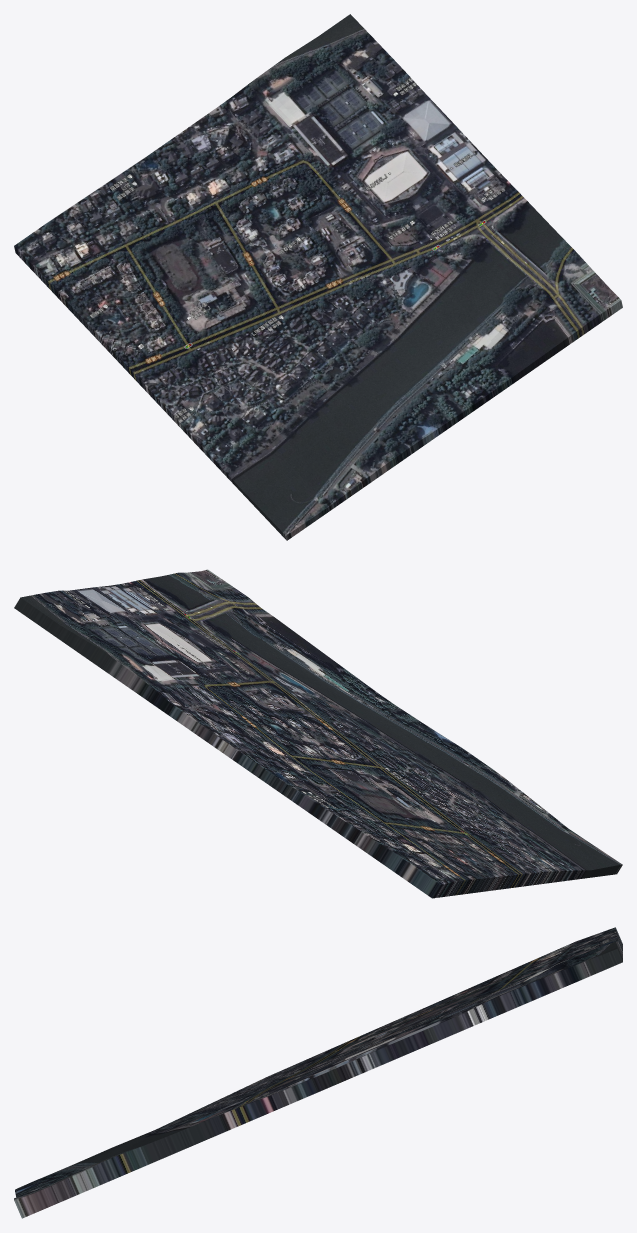
The picture shows the model from 3 angles, top to bottom: view 1: azimuth 30°, elevation 25°; view 2: azimuth 150°, elevation 25°; view 3: azimuth 270°, elevation 25°; orthographic projection. The views are drawn at different scales.
Parts seen in each view (by area): view 1: 0_12_17; view 2: 0_12_17; view 3: 0_12_17.
Boxes of the visible parts, x1=… form: 0_12_17: x1=14, y1=14, x2=622, y2=540; 0_12_17: x1=14, y1=569, x2=622, y2=898; 0_12_17: x1=14, y1=927, x2=622, y2=1218.
Bounding box in the file's own units: 598 × 439 × 549.
1 material, 1 textured.
